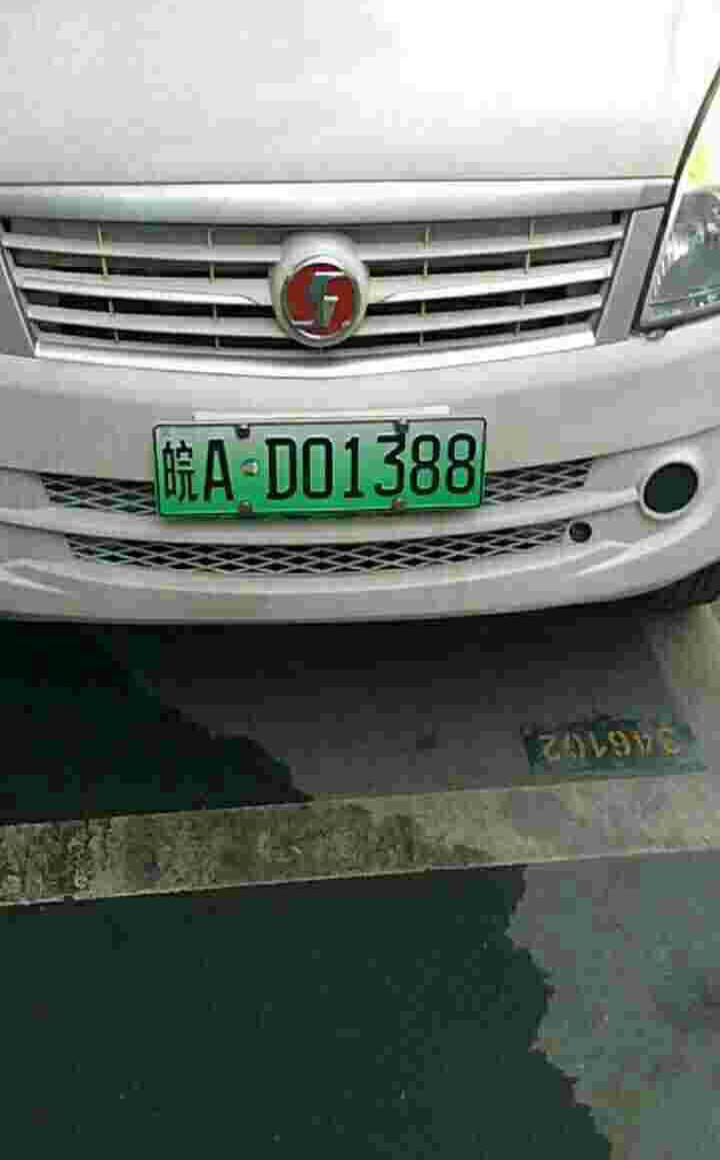car_id: (152, 418, 485, 512)
